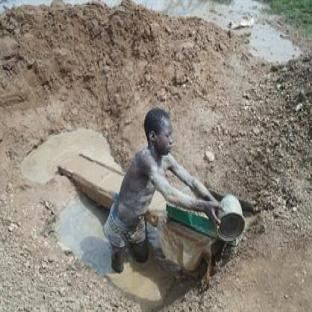Person: (103, 109, 241, 312)
